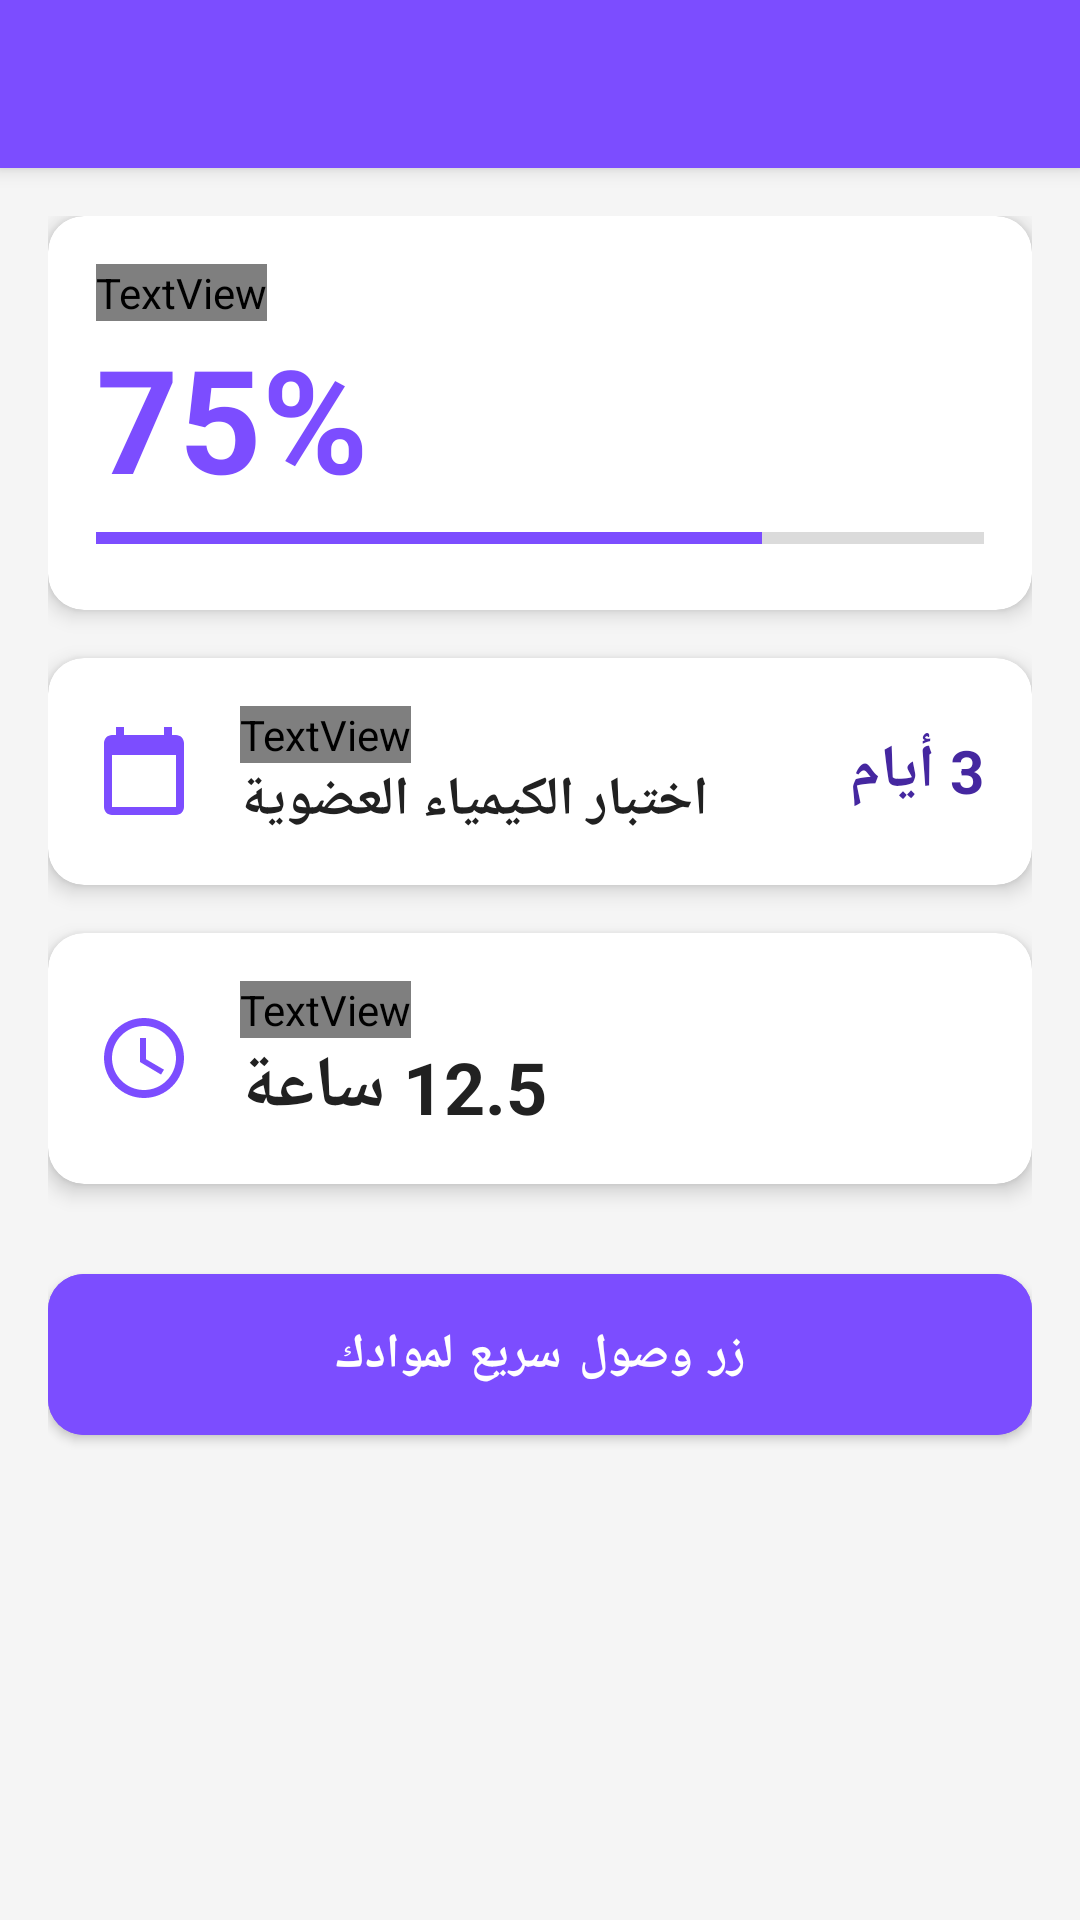

Named icons in this screenshot (1080*1920) and their bounding boxes, (x1, y1, x2, y2):
أيقونة ساعات: (104, 1018, 184, 1098)
